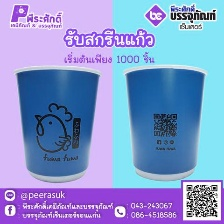paper_cup: (8, 60, 107, 187), (119, 60, 211, 184)
